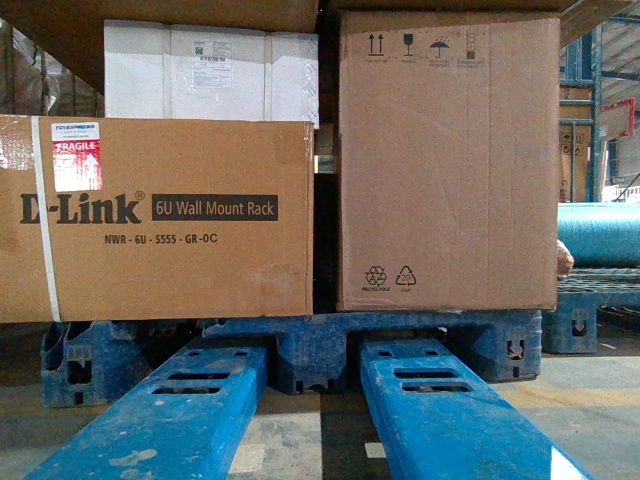block: (44, 319, 118, 407), (281, 315, 351, 396), (487, 305, 544, 385), (550, 290, 600, 354)
front: (45, 308, 542, 401)
hole pallet: (112, 326, 287, 401), (343, 319, 488, 382)
